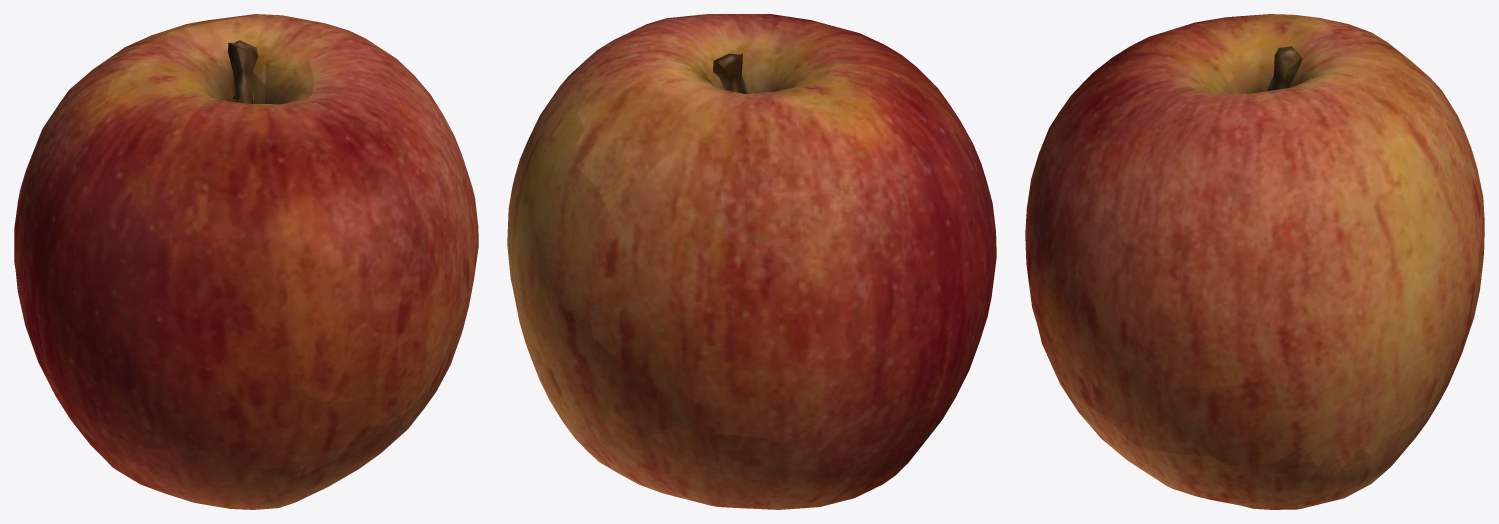
Rendered from food_produce_apple_b01.glb.
3 views of the same model, side by side, from view 1: azimuth 30°, elevation 25°; view 2: azimuth 150°, elevation 25°; view 3: azimuth 270°, elevation 25° (orthographic). The views are drawn at different scales.
Parts seen in each view (by area): view 1: part0; view 2: part0; view 3: part0.
Part boxes in pixels (<box>): part0: <box>14,14,478,509</box>; part0: <box>507,14,996,509</box>; part0: <box>1025,14,1484,509</box>.
Bounding box in the file's own units: 0.07 × 0.0683 × 0.0668.
Materials: 1 (1 with a texture image).
